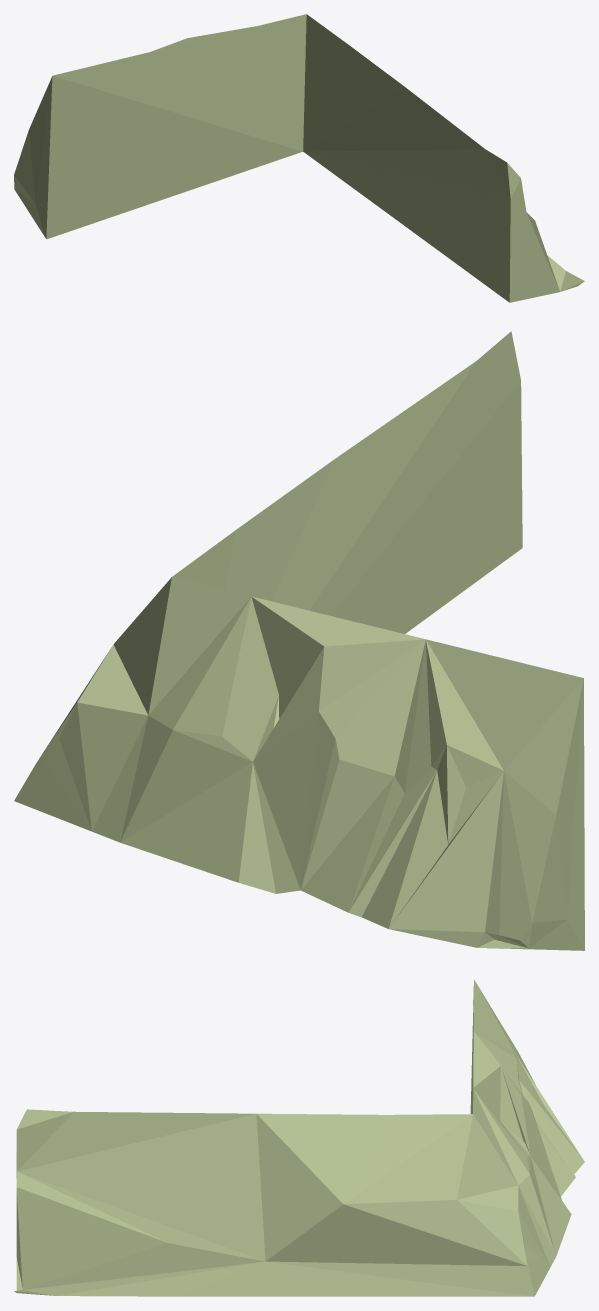
Rendered from hill_5.gltf.
3 renders of one model, top to bottom at view 1: azimuth 30°, elevation 25°; view 2: azimuth 150°, elevation 25°; view 3: azimuth 270°, elevation 25°, orthographic. The views are drawn at different scales.
Parts seen in each view (by area): view 1: hill; view 2: hill; view 3: hill.
Boxes of the visible parts, x1=… form: hill: x1=14, y1=14, x2=584, y2=302; hill: x1=14, y1=331, x2=584, y2=950; hill: x1=14, y1=979, x2=584, y2=1296.
Bounding box in the file's own units: 4.35 × 2.13 × 6.06.
